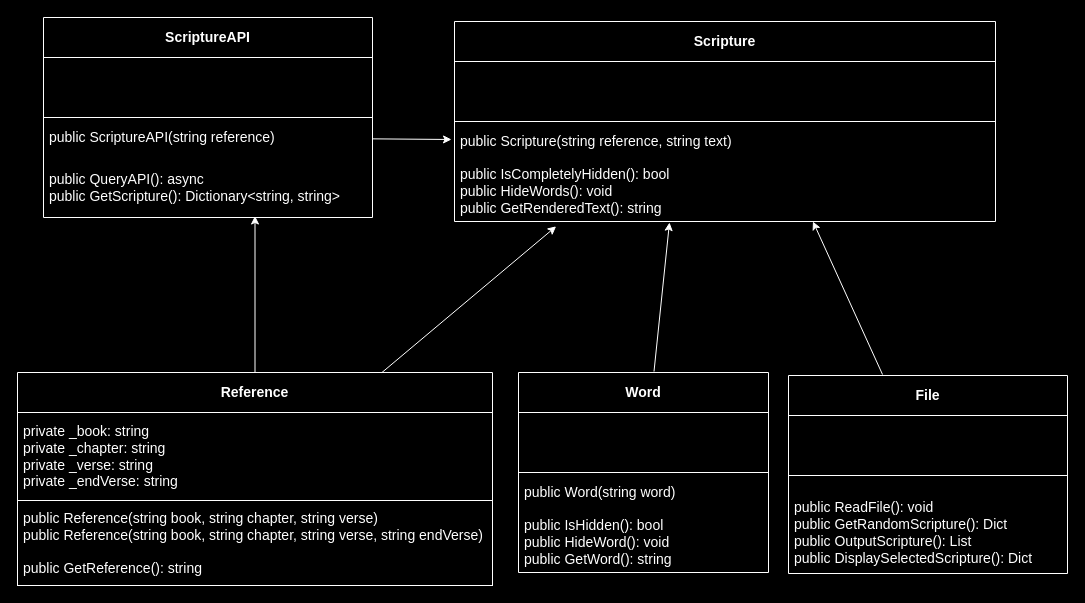
Some shapes in this 1085 by 603 pixel diagram are drawn without their labels. Each missing label, with the box of its shape:
private _dictionary: Dict<string, string>: (788, 414, 1068, 476)
private _reference: string private _texts: Dictionary<string, string>: (42, 56, 372, 118)
private _reference: string private _texts: List<Word>: (454, 60, 996, 122)
private _word: string private _isHiden: bool: (518, 412, 768, 472)
